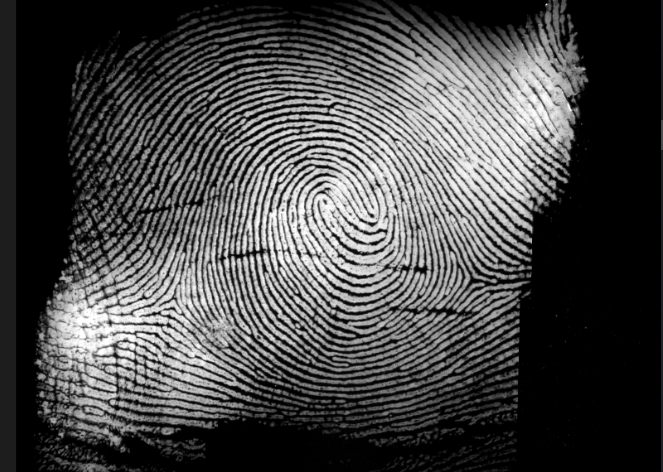deltas: (128, 271, 205, 342), (439, 249, 504, 309)
nucleo: (310, 168, 391, 248)
